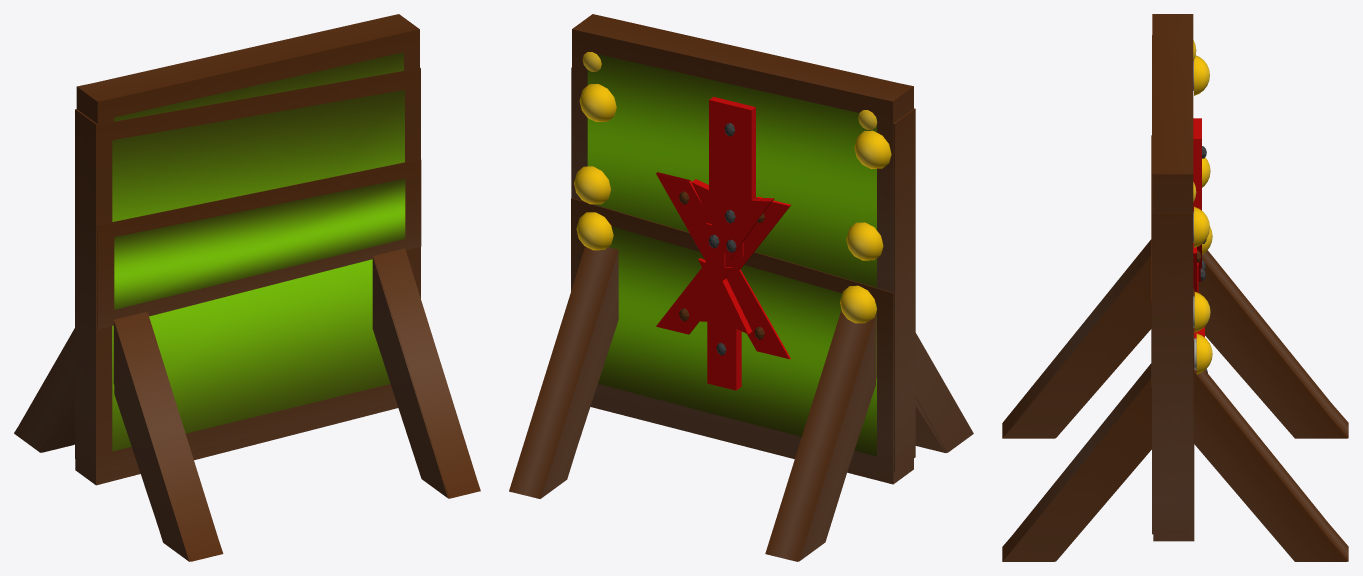
Rendered from Cave_obstacles3.fbx.
The picture shows the model from 3 angles, left to right: view 1: azimuth 30°, elevation 25°; view 2: azimuth 150°, elevation 25°; view 3: azimuth 270°, elevation 25°; orthographic projection.
Visible parts, largest first — view 1: Cave_obstacles15, Cave_obstacles14, Cave_obstacles16, Cave_obstacles10; view 2: Cave_obstacles16, Cave_obstacles10, Cave_obstacles15, pSphere32 (×3), Cave_obstacles14, pSphere35, pSphere34, pSphere33; view 3: Cave_obstacles15, Cave_obstacles16, Cave_obstacles14, Cave_obstacles10, pSphere32 (×2), pSphere35, pSphere34.
Boxes of the visible parts, <box> form: Cave_obstacles15: <box>14,68,475,561</box>; Cave_obstacles14: <box>42,159,480,561</box>; Cave_obstacles16: <box>76,14,448,533</box>; Cave_obstacles10: <box>14,321,421,521</box>; Cave_obstacles16: <box>520,14,913,553</box>; Cave_obstacles10: <box>509,198,946,561</box>; Cave_obstacles15: <box>509,67,973,561</box>; pSphere32 (×3): <box>576,130,891,260</box>; Cave_obstacles14: <box>698,223,743,292</box>; pSphere35: <box>574,166,610,204</box>; pSphere34: <box>579,84,616,121</box>; pSphere33: <box>840,285,876,323</box>; Cave_obstacles15: <box>1003,35,1346,561</box>; Cave_obstacles16: <box>1003,14,1347,536</box>; Cave_obstacles14: <box>1002,135,1295,561</box>; Cave_obstacles10: <box>1055,288,1348,561</box>; pSphere32 (×2): <box>1194,55,1212,374</box>; pSphere35: <box>1194,291,1210,332</box>; pSphere34: <box>1194,206,1209,247</box>.
Size of the model in its own units: 503 by 604 by 473.
